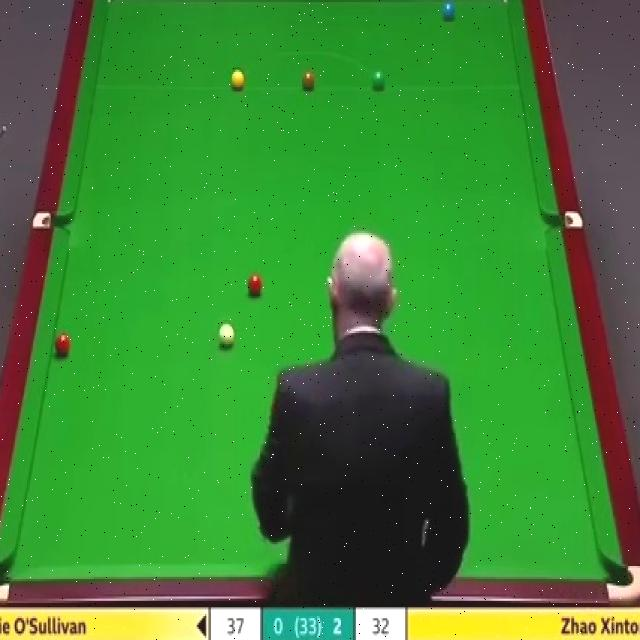blue-ball: (441, 0, 456, 20)
brown-ball: (301, 72, 315, 90)
green-ball: (371, 68, 387, 93)
red-ball: (55, 332, 71, 357), (247, 274, 262, 298)
white-ball: (218, 323, 235, 350)
yellow-ball: (230, 69, 245, 91)
